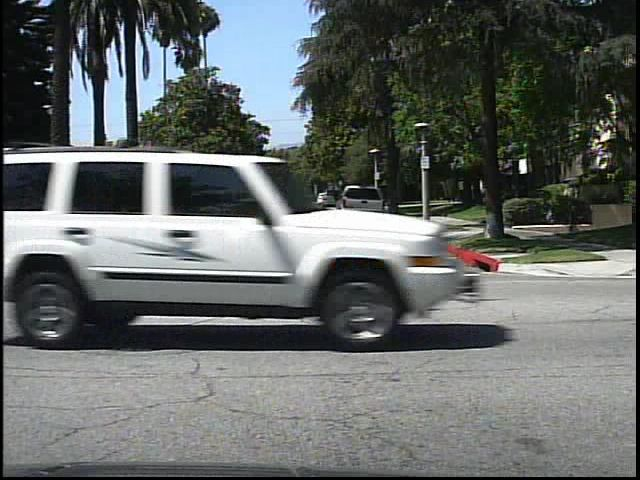car: (2, 153, 523, 358)
